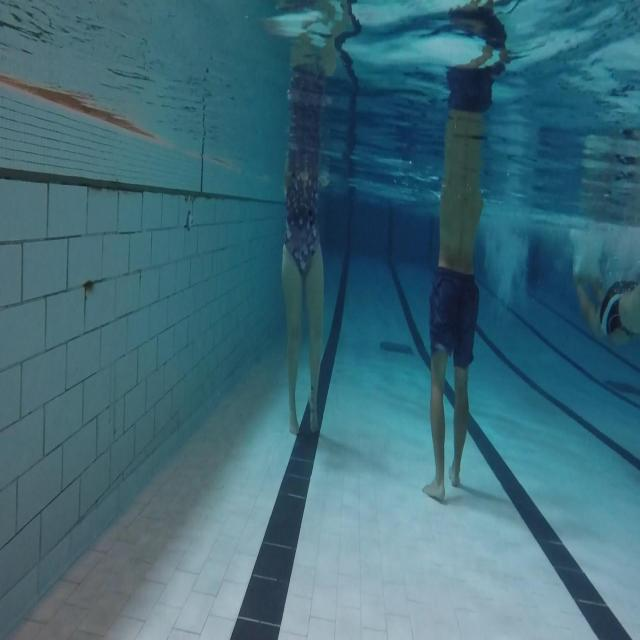human: (421, 1, 510, 502), (280, 54, 330, 436)
